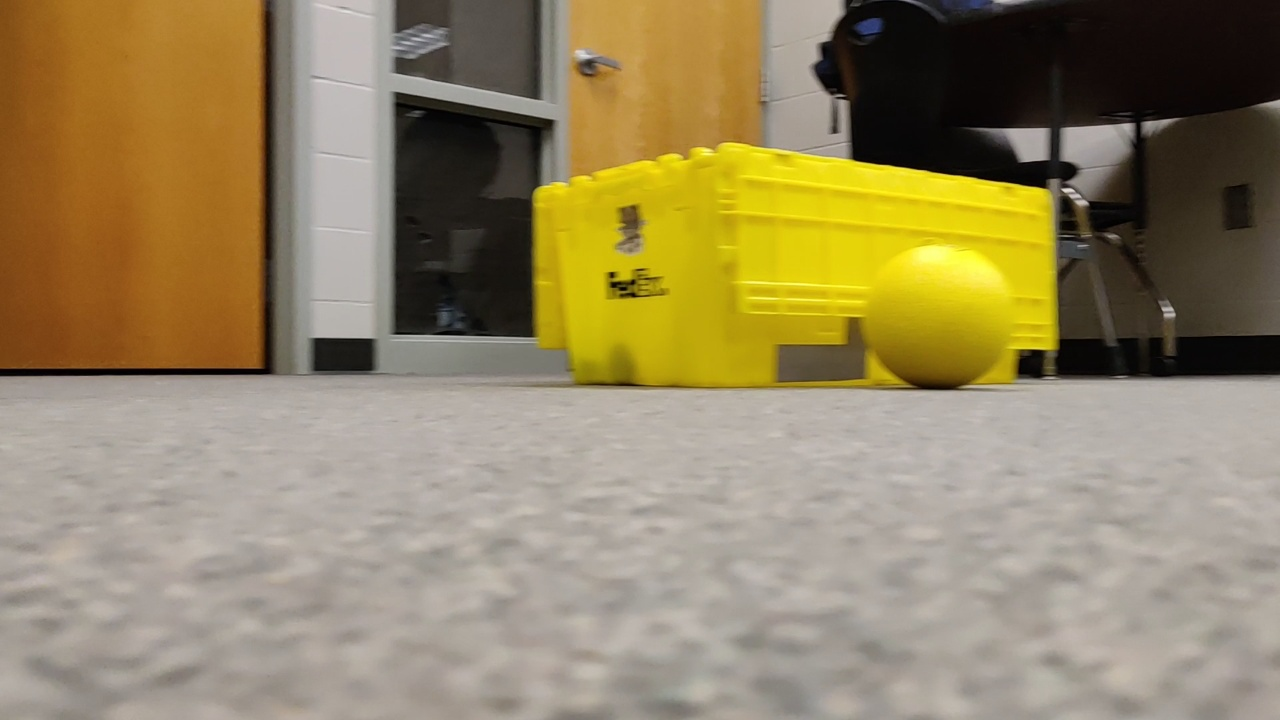Ball: (858, 239, 1016, 395)
